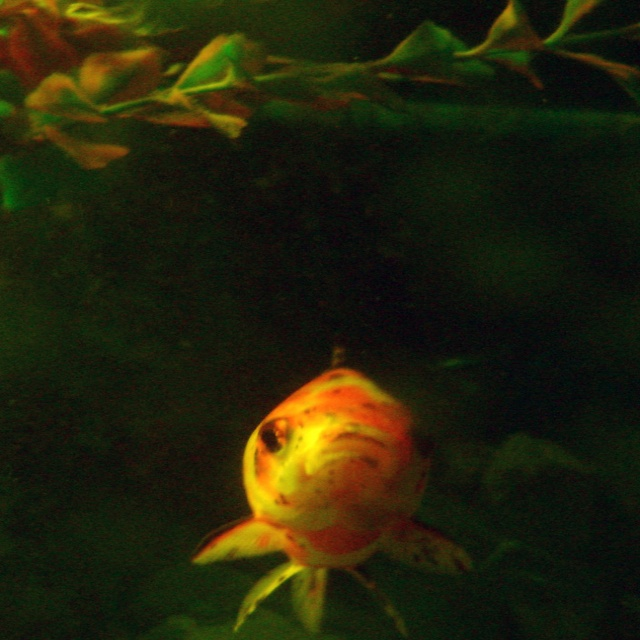Fish: (185, 353, 458, 614)
